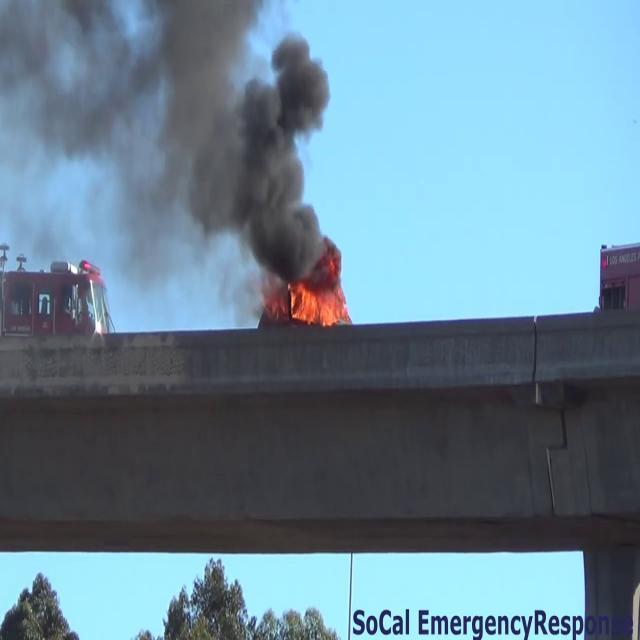Fire: (284, 276, 352, 330)
Smoke: (2, 0, 346, 288)
